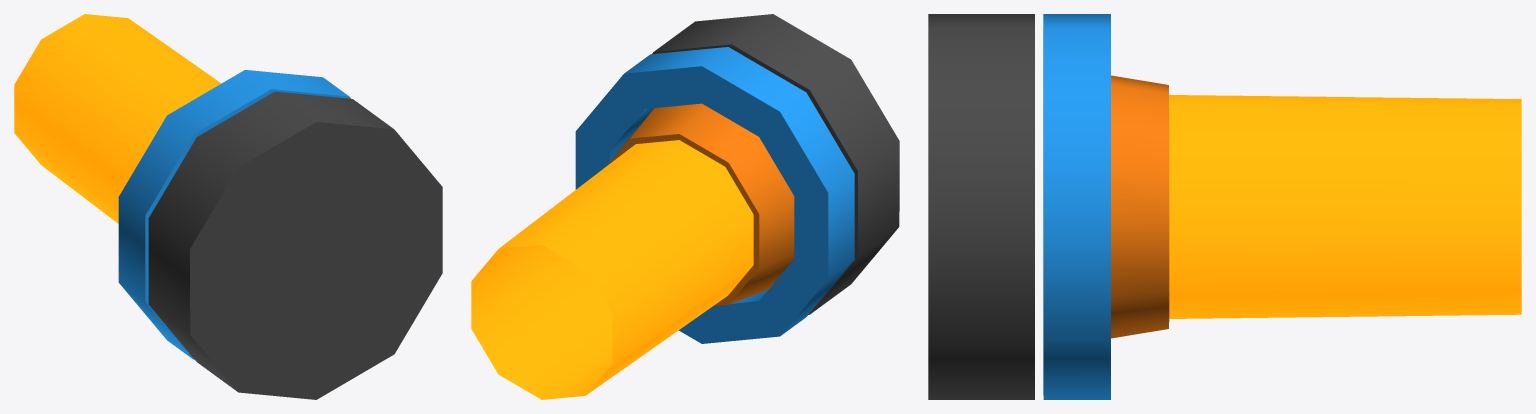
File: boost.glb
3 renders of one model, left to right at view 1: azimuth 30°, elevation 25°; view 2: azimuth 150°, elevation 25°; view 3: azimuth 270°, elevation 25°, orthographic. The views are drawn at different scales.
Visible parts, largest first — view 1: boost.004, boost-part.014; view 2: boost.004, boost-part.014; view 3: boost.004, boost-part.014.
Boxes of the visible parts, bbox=[...] form: boost.004: bbox=[118, 70, 442, 399]; boost-part.014: bbox=[14, 14, 221, 223]; boost.004: bbox=[575, 14, 899, 343]; boost-part.014: bbox=[471, 140, 753, 399]; boost.004: bbox=[928, 14, 1169, 399]; boost-part.014: bbox=[1169, 95, 1521, 318].
Bounding box in the file's own units: 0.1451 × 0.1525 × 0.2302.
